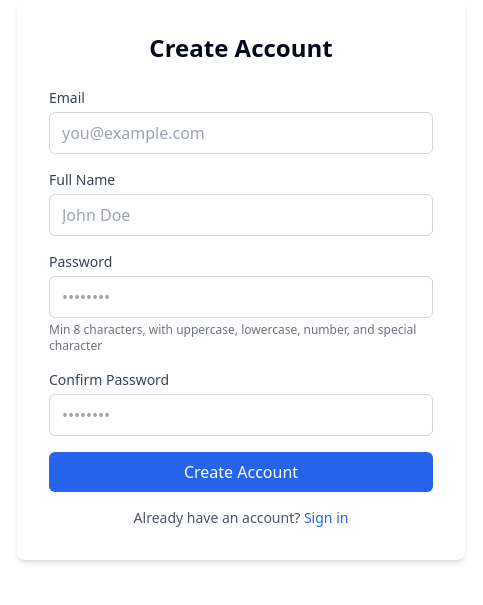
Scenario: RegisterForm › validates passwords match
Step 1. Type "test@example.com" into the field labelled "Email" → (241, 133), box left=49, top=112, right=433, bottom=154
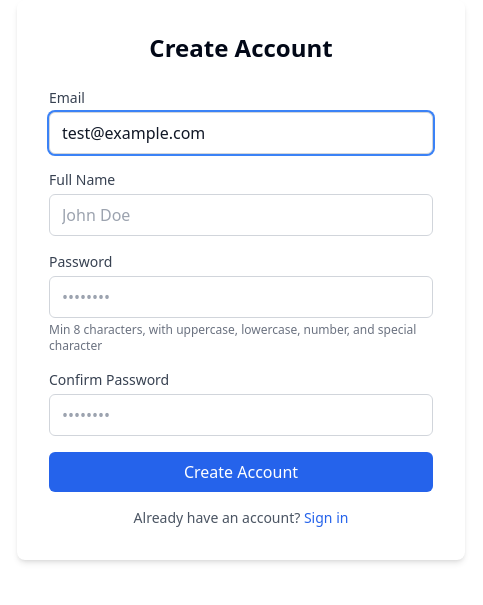
Step 2. Type "Test User" into the field labelled "Full Name" → (241, 215), box left=49, top=194, right=433, bottom=236
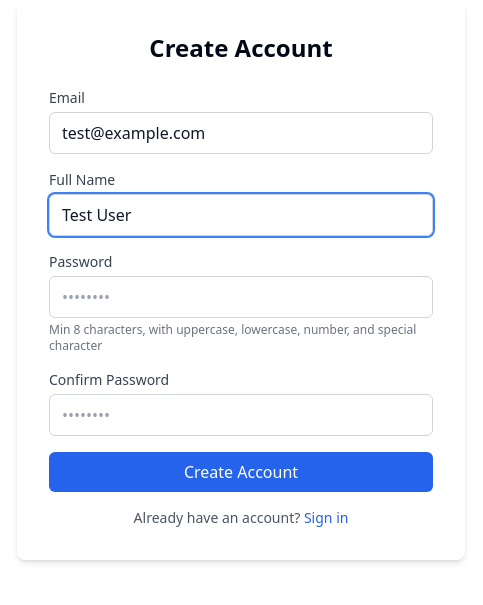
Step 3. Type "Test123456" into the password field labelled "Password" → (241, 297), box left=49, top=276, right=433, bottom=318
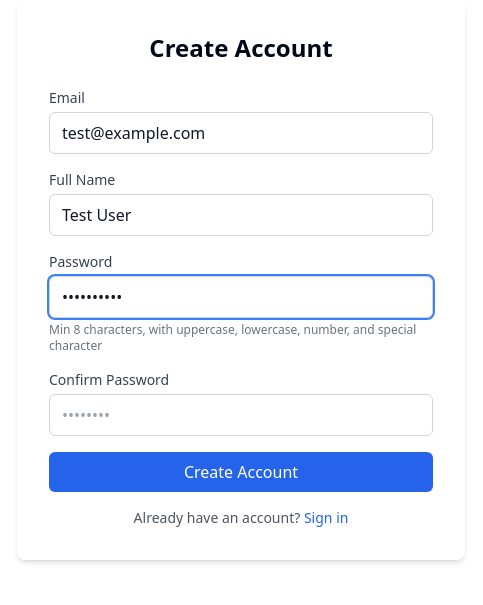
Step 4. Type "Different123" into the password field labelled "Confirm Password" → (241, 415), box left=49, top=394, right=433, bottom=436
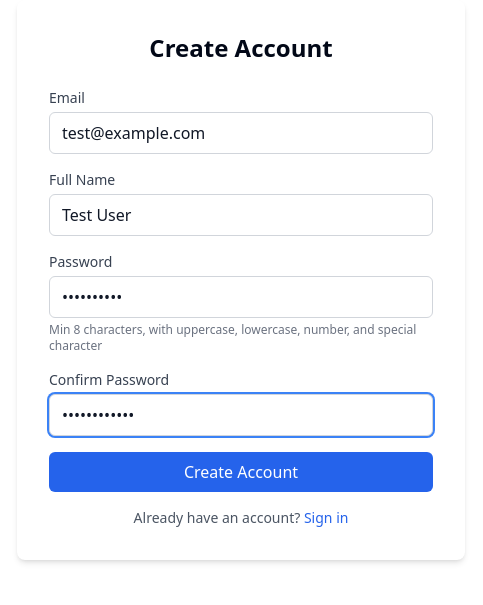
Step 5. Click the button "Create Account" → click(241, 472), box left=49, top=452, right=433, bottom=492
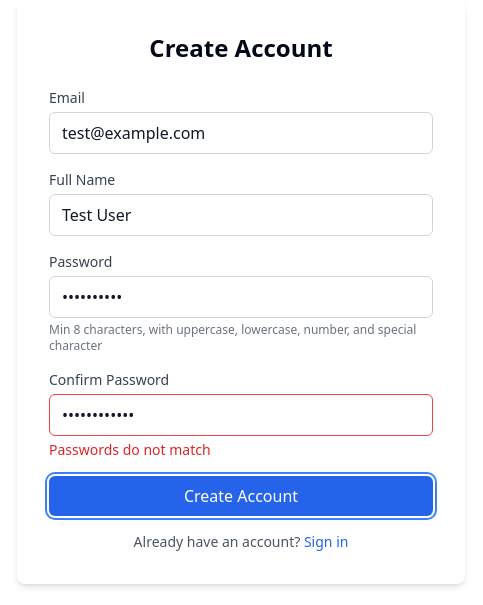
Now the text "Passwords do not match" is shown, box left=49, top=440, right=211, bottom=459
